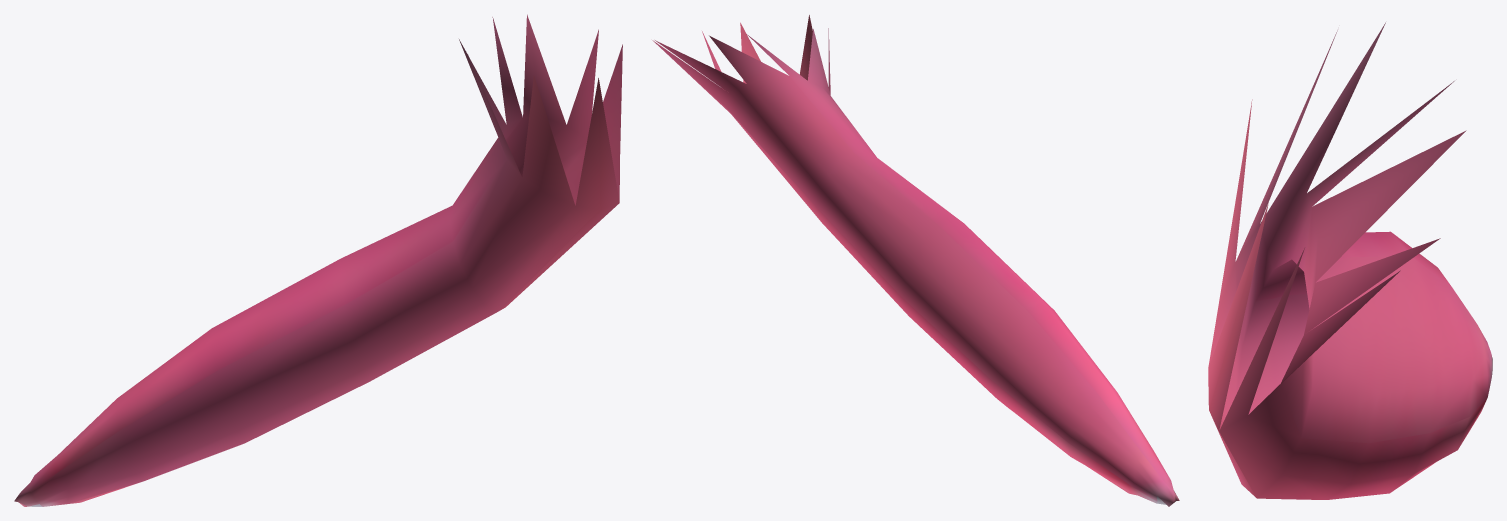
File: Punta3.obj
3 renders of one model, left to right at view 1: azimuth 30°, elevation 25°; view 2: azimuth 150°, elevation 25°; view 3: azimuth 270°, elevation 25°, orthographic. The views are drawn at different scales.
Parts seen in each view (by area): view 1: Punta3; view 2: Punta3; view 3: Punta3.
Part boxes in pixels (<box>): Punta3: <box>14,14,622,506</box>; Punta3: <box>652,15,1179,506</box>; Punta3: <box>1208,22,1492,499</box>.
Bounding box in the file's own units: 5.57 × 3.58 × 1.25.
